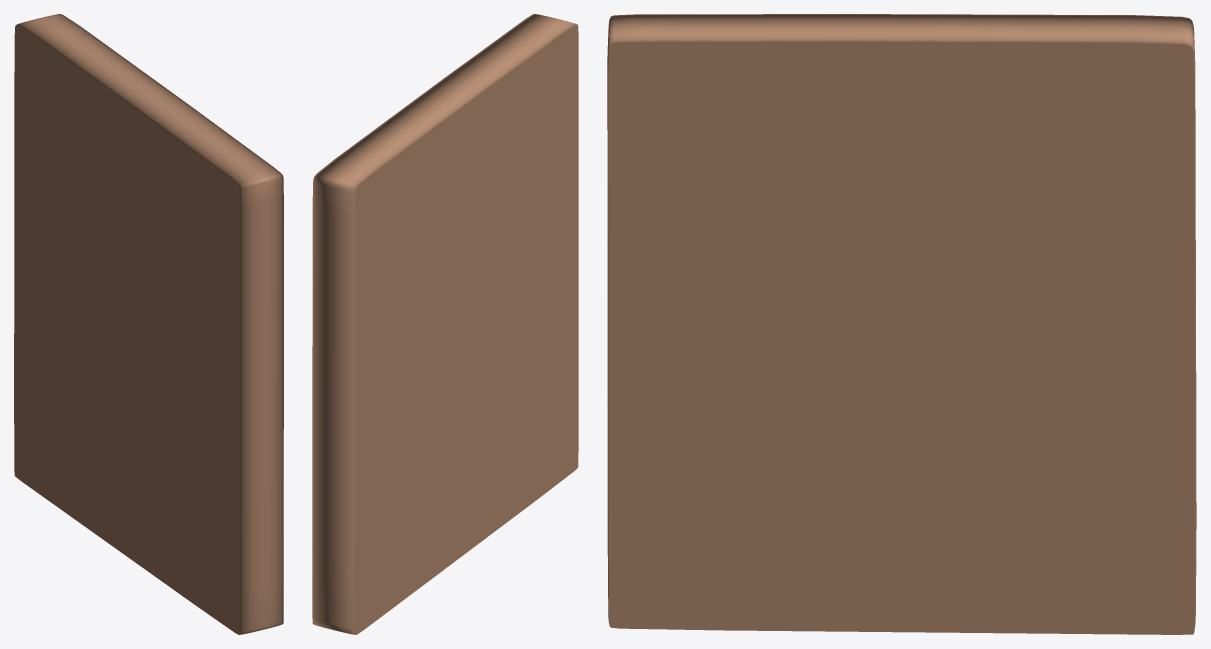
File: cutting_board.obj
The picture shows the model from 3 angles, left to right: view 1: azimuth 30°, elevation 25°; view 2: azimuth 150°, elevation 25°; view 3: azimuth 270°, elevation 25°; orthographic projection. The views are drawn at different scales.
Visible parts, largest first — view 1: p0000.86735; view 2: p0000.86735; view 3: p0000.86735.
Part boxes in pixels (x1=…): p0000.86735: x1=14, y1=14, x2=283, y2=634; p0000.86735: x1=312, y1=14, x2=578, y2=634; p0000.86735: x1=607, y1=14, x2=1196, y2=634.
Bounding box in the file's own units: 0.4149 × 4.12 × 3.69.
